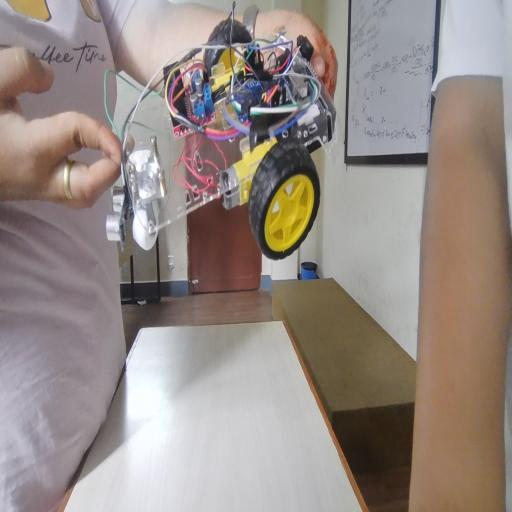car: (128, 39, 339, 253)
